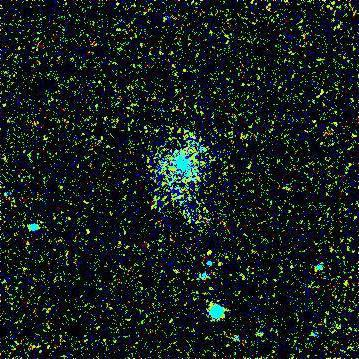star: (194, 238, 224, 268)
